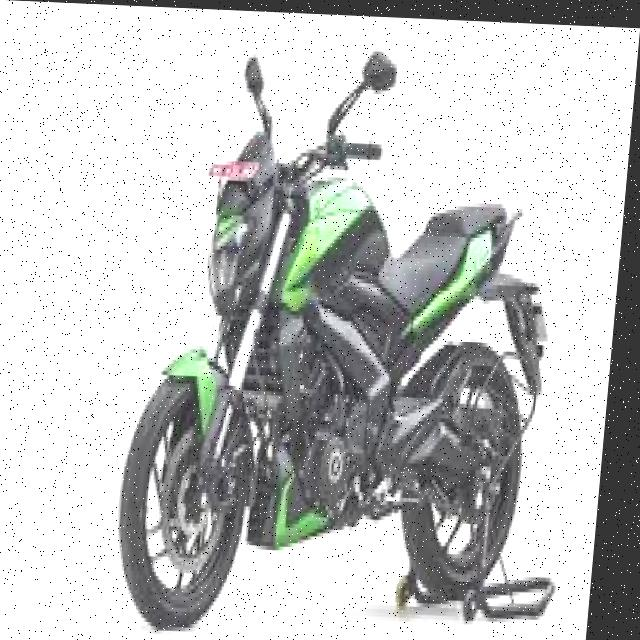bike: (91, 58, 606, 623)
